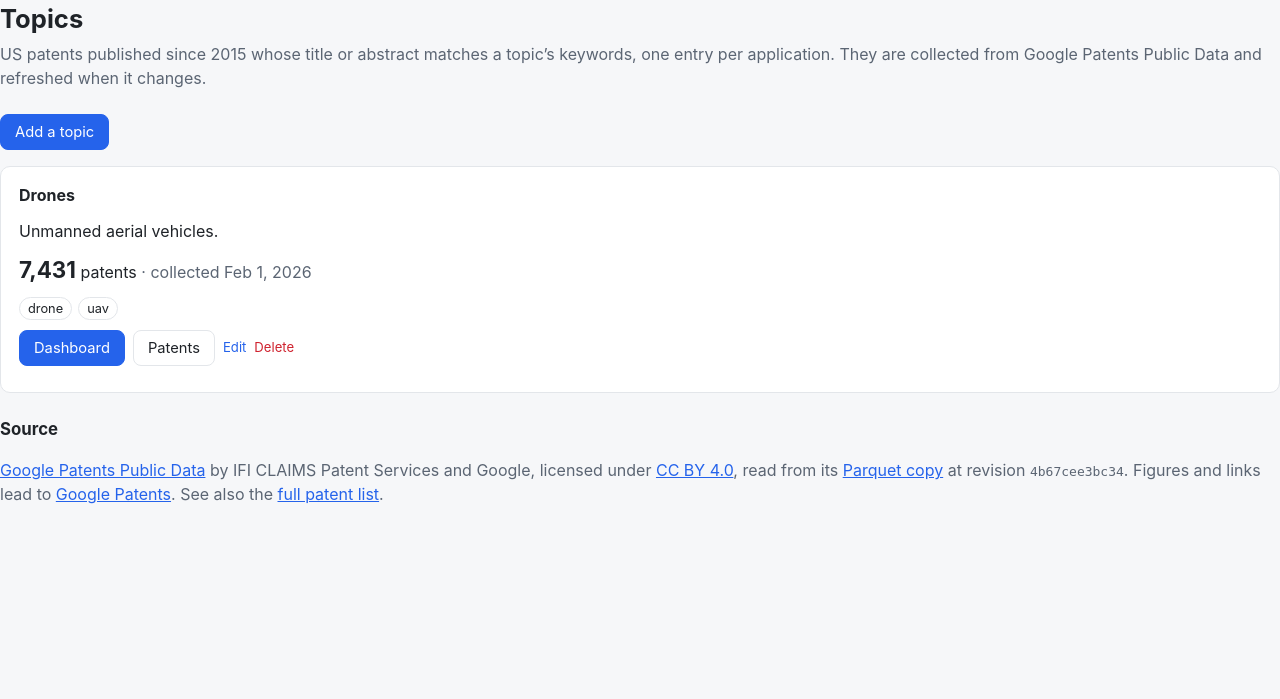
Test: Topics › adds a topic and shows the API's objections next to the fields
Click the button "Add a topic" at point(55, 132), box left=0, top=114, right=109, bottom=150
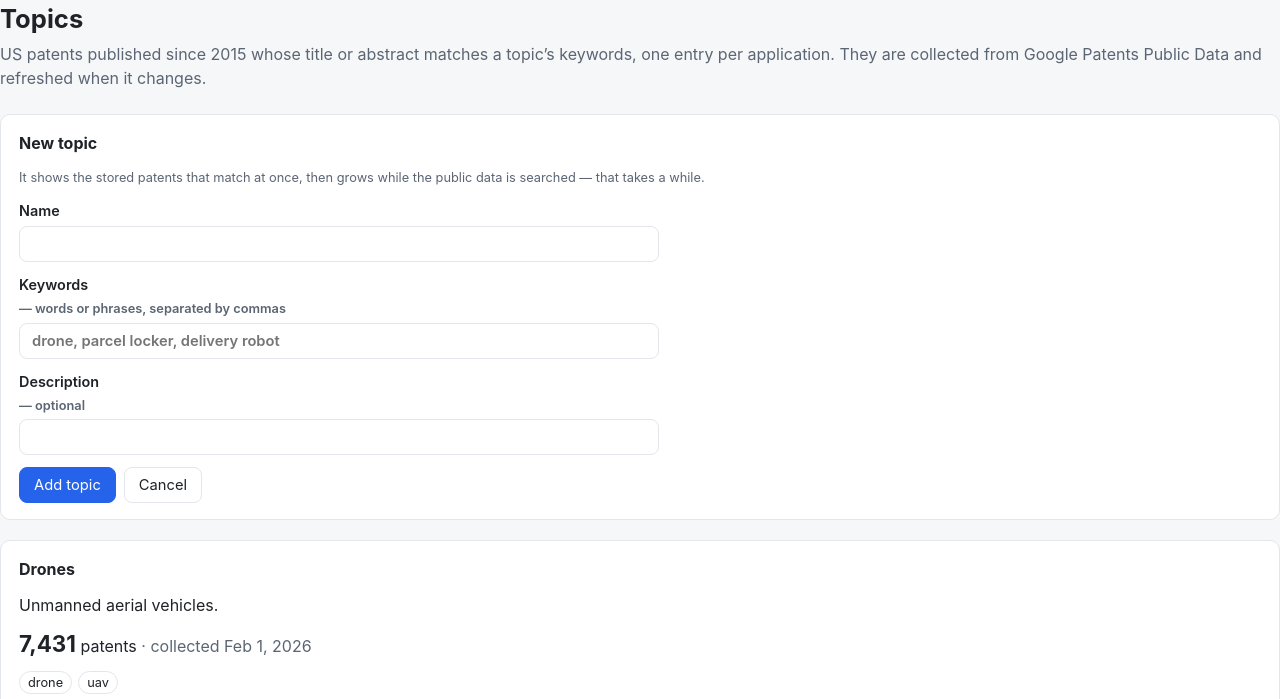
Type "Lockers" into the field labelled "Name" at point(339, 244), box left=19, top=226, right=659, bottom=262
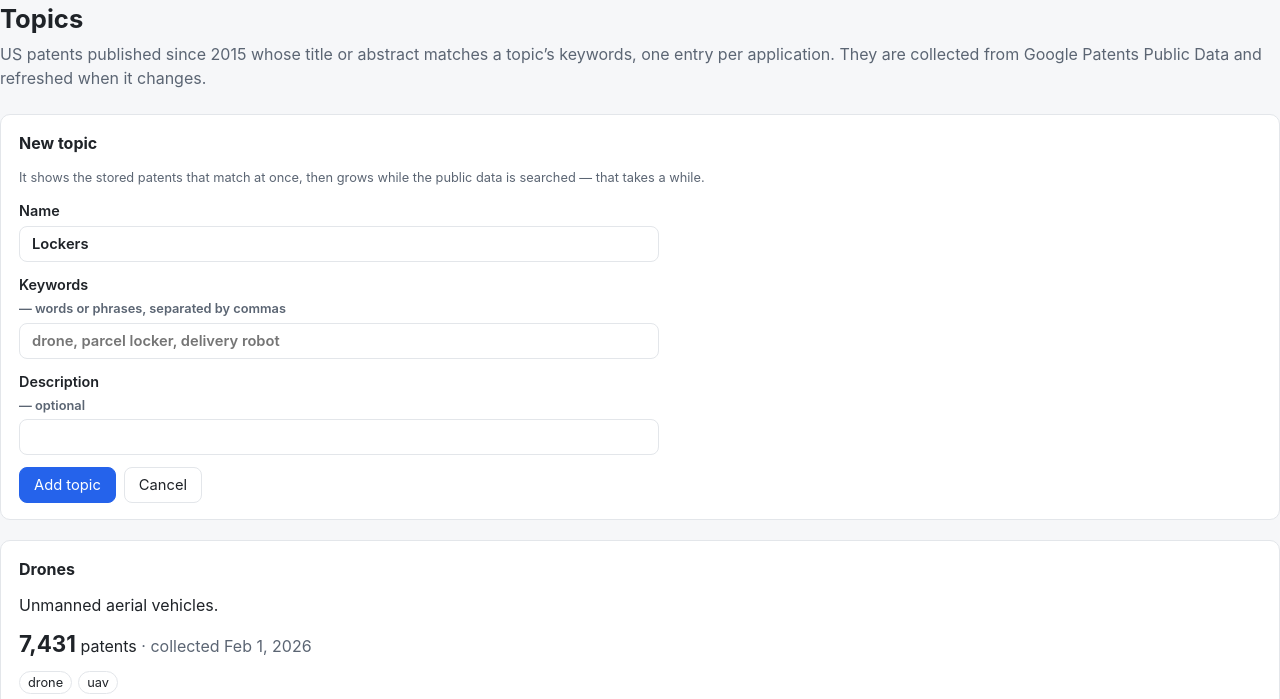
Type "dr.ne" into the field labelled "Keywords — words or phrases, separated by commas" at point(339, 341), box left=19, top=323, right=659, bottom=359
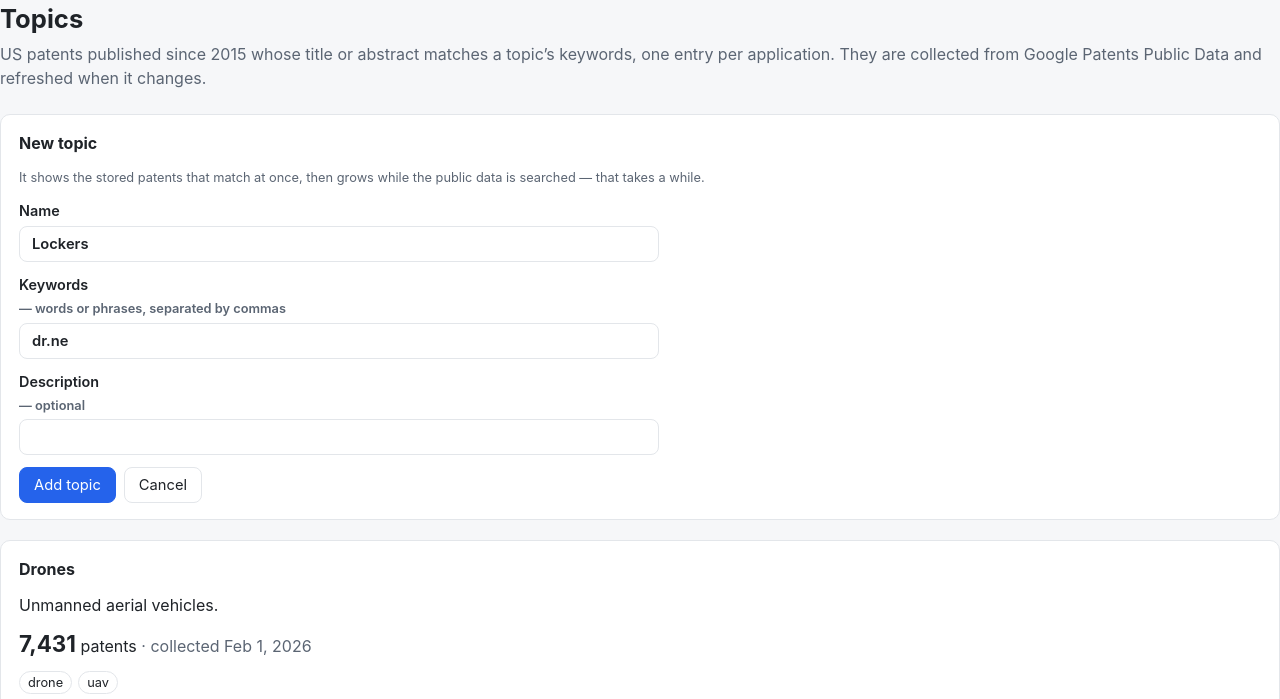
Click the button "Add topic" at point(67, 485), box left=19, top=467, right=116, bottom=503
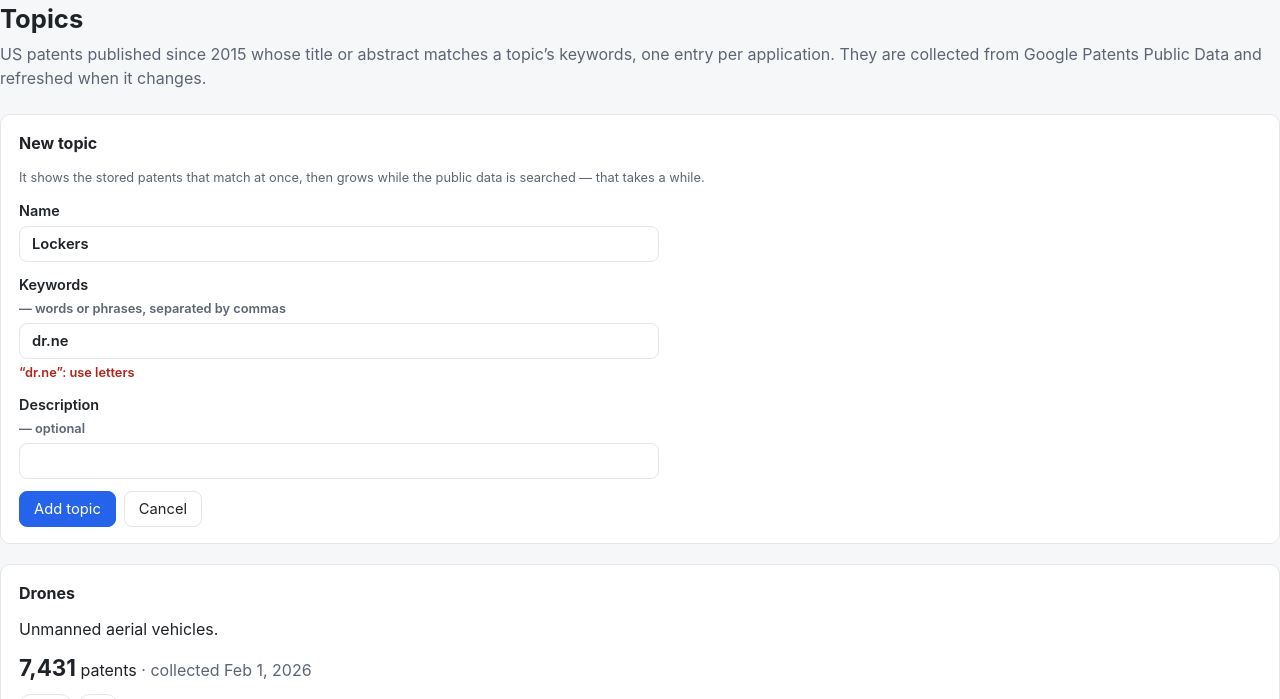
Expected: the text "“dr.ne”: use letters" is shown, left=19, top=365, right=134, bottom=380
Replace the text in the field labelled "Keywords" with "locker, parcel box" at point(339, 341), box left=19, top=323, right=659, bottom=359
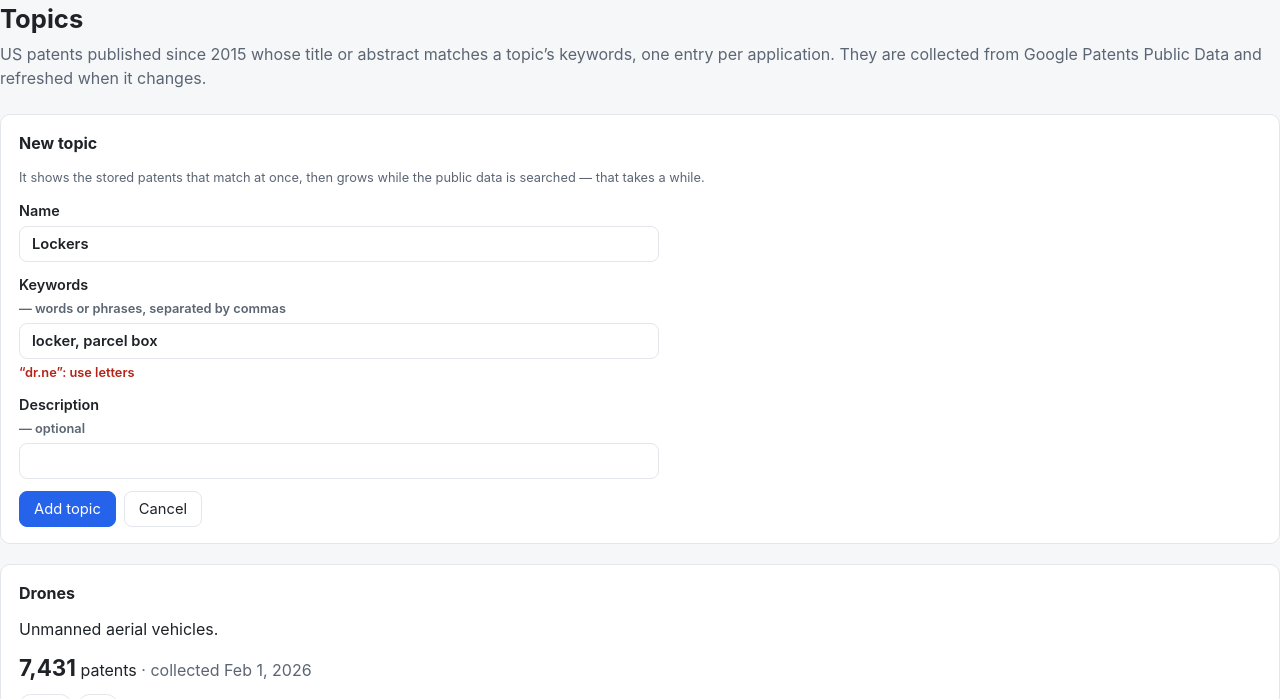
Click the button "Add topic" at point(67, 509), box left=19, top=491, right=116, bottom=527
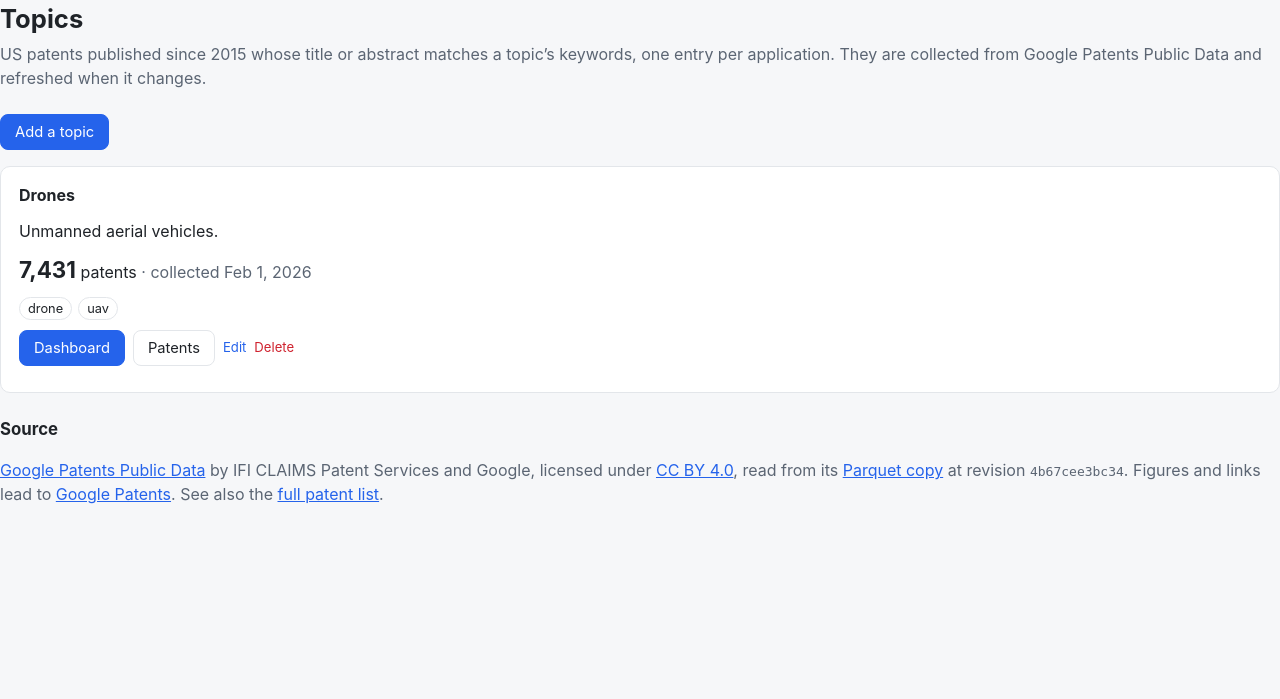
Expected: the button "Add topic" is gone
